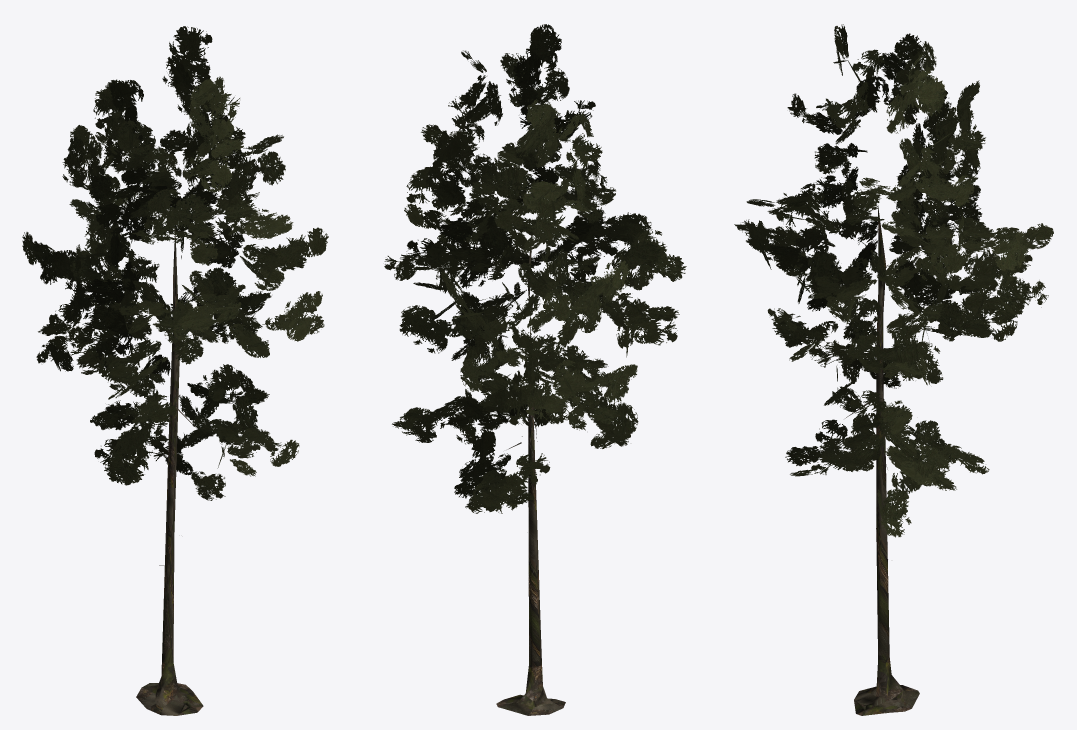
File: fir_b.glb
3 views of the same model, side by side, from view 1: azimuth 30°, elevation 25°; view 2: azimuth 150°, elevation 25°; view 3: azimuth 270°, elevation 25° (orthographic). The views are drawn at different scales.
Visible parts, largest first — view 1: cards, fir_tree_01_trunk_b; view 2: cards, fir_tree_01_trunk_b; view 3: cards, fir_tree_01_trunk_b.
Part boxes in pixels (<box>): cards: <box>22,26,328,500</box>; fir_tree_01_trunk_b: <box>136,229,203,715</box>; cards: <box>384,24,686,513</box>; fir_tree_01_trunk_b: <box>496,219,565,715</box>; cards: <box>734,24,1053,537</box>; fir_tree_01_trunk_b: <box>854,205,919,715</box>.
Bounding box in the file's own units: 6.23 × 14.36 × 6.32.
3 materials, 3 textured.
